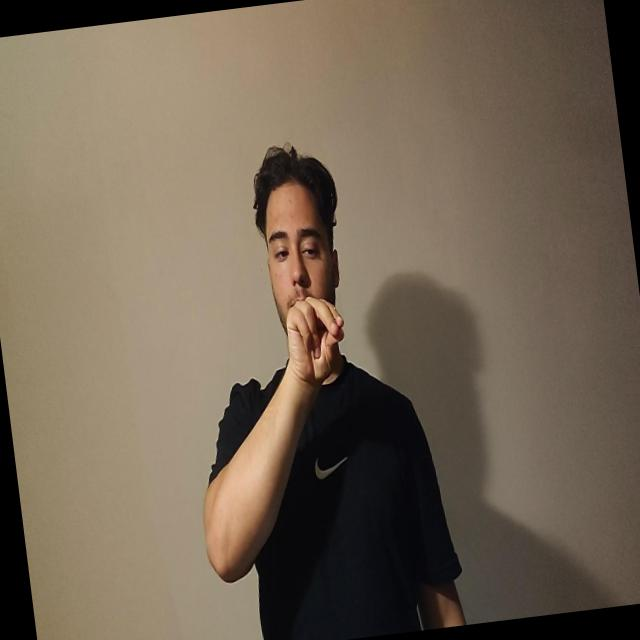no: (280, 291, 351, 390)
